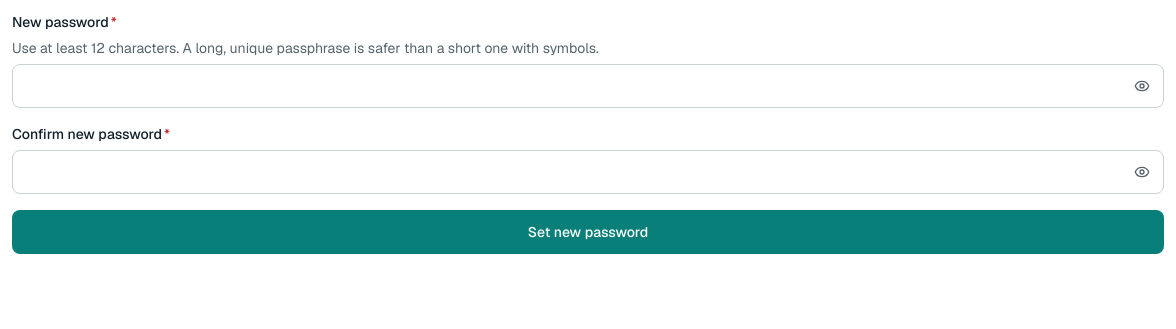
Test: ResetPasswordForm › shows a safe expired-link error message returned by the action
Type "a brand new password" into the password field labelled "New password" at (588, 86), box [12,64,1164,108]
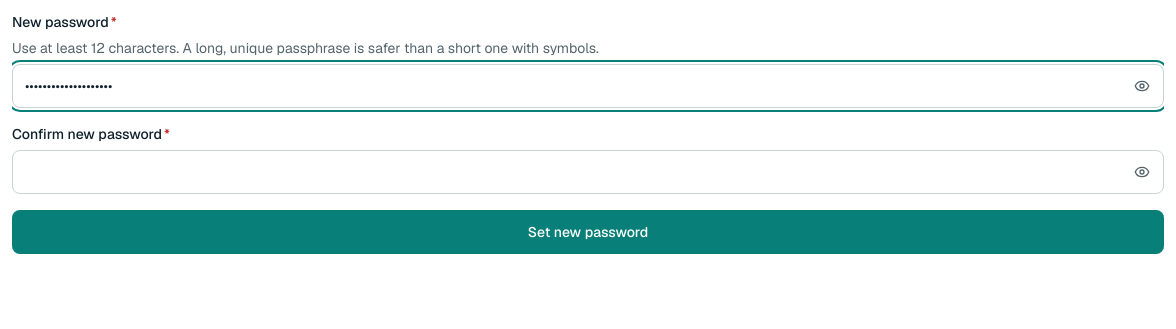
Type "a brand new password" into the password field labelled "Confirm new password" at (588, 172), box [12,150,1164,194]
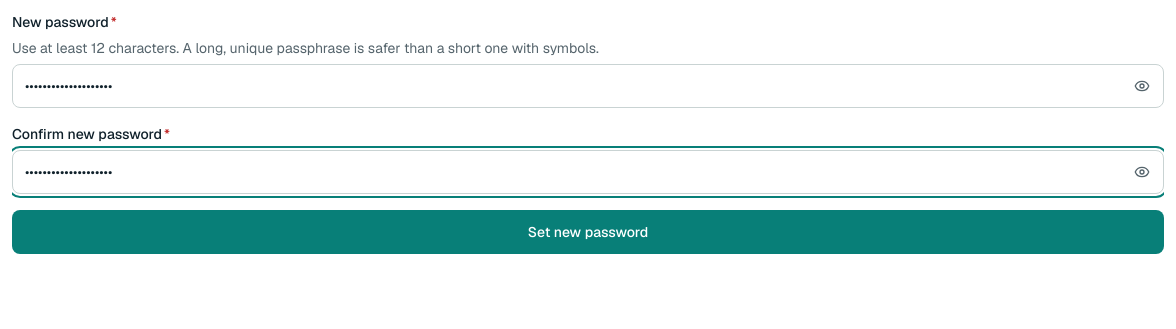
Click the button "Set new password" at (588, 232), box [12,210,1164,254]
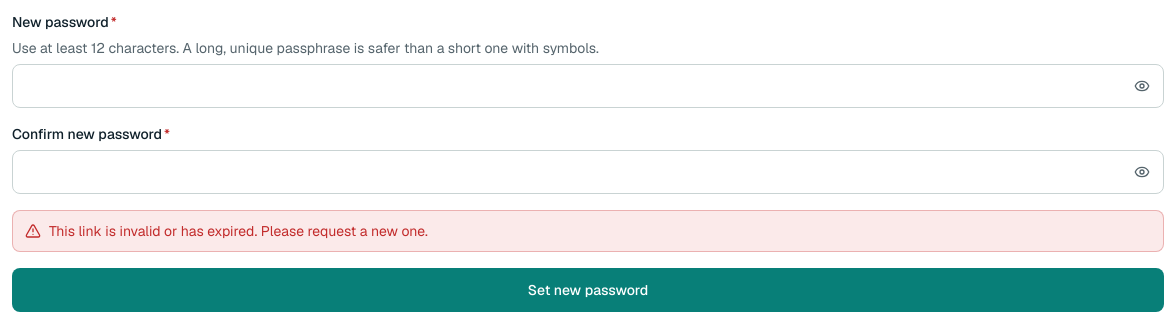
Result: the message reads "This link is invalid or has expired. Please request a new one." at [49,222,428,240]
